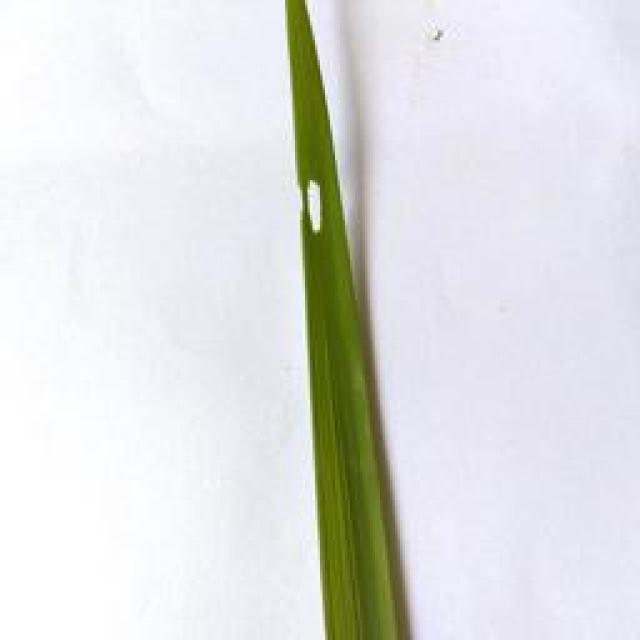Bacterial_Blight: (299, 179, 333, 232)
